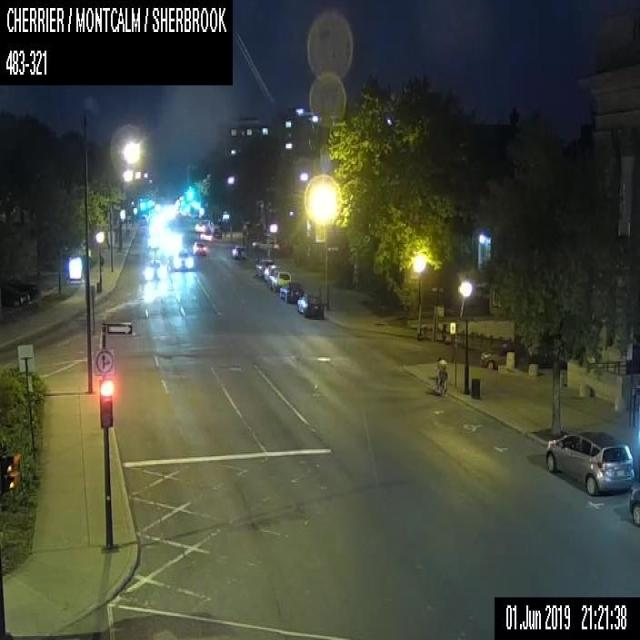cyclist: (434, 356, 447, 395)
vehicle: (544, 427, 635, 493), (479, 344, 526, 368), (0, 277, 35, 299), (0, 284, 29, 308), (296, 294, 323, 317), (279, 281, 303, 302), (268, 269, 290, 291), (171, 248, 192, 270), (251, 237, 278, 252), (629, 486, 639, 526), (253, 258, 273, 275), (262, 263, 276, 280), (191, 240, 206, 255), (232, 244, 246, 258)
